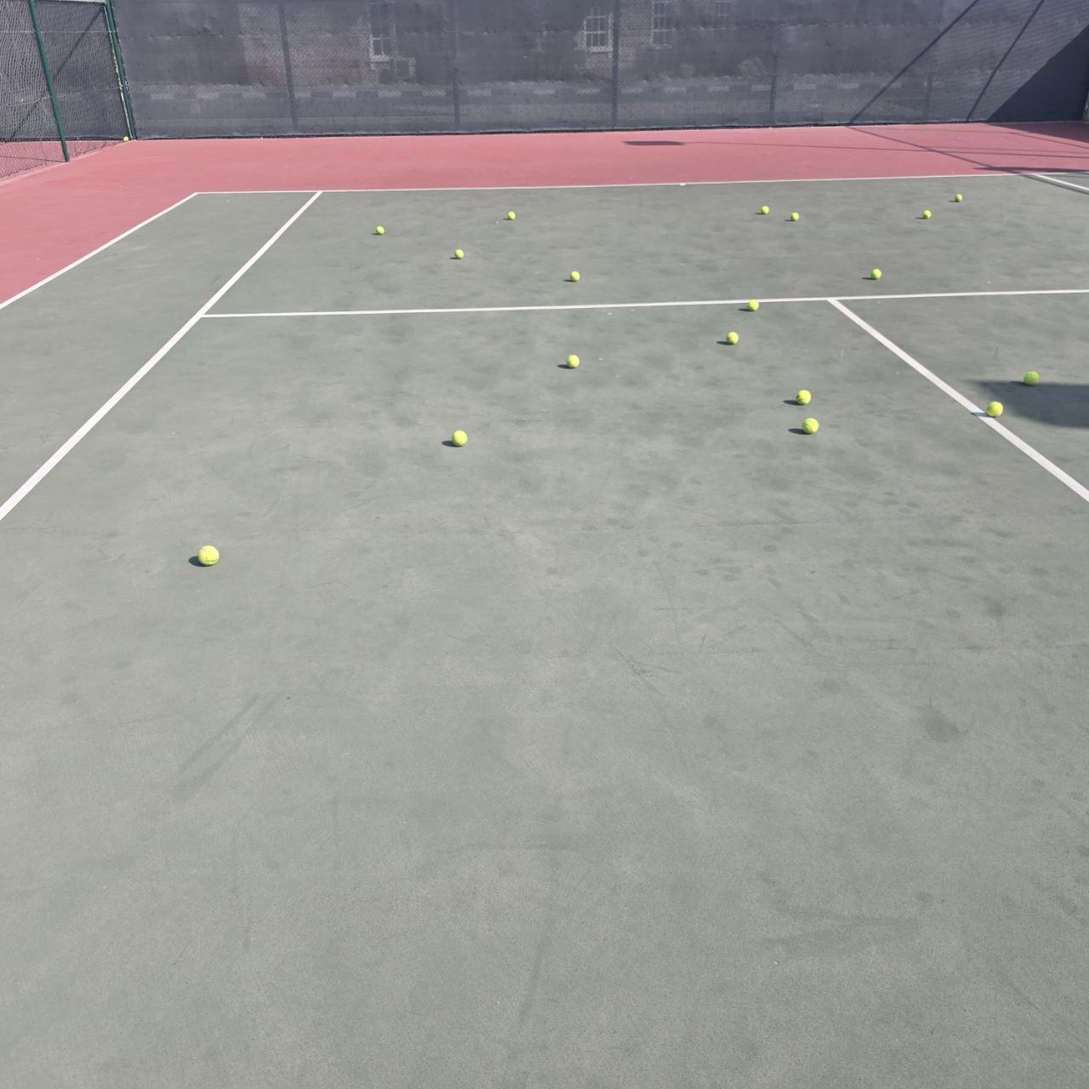tennis-ball: (197, 542, 220, 566), (801, 415, 819, 434), (451, 427, 467, 446), (986, 401, 1003, 418), (795, 387, 811, 404), (1023, 370, 1039, 386), (566, 351, 579, 368), (726, 329, 738, 345), (746, 298, 760, 311), (870, 268, 881, 280), (455, 249, 465, 259), (570, 271, 580, 281), (761, 205, 770, 215), (376, 226, 385, 235), (923, 210, 932, 219), (508, 211, 516, 220), (791, 213, 800, 221), (955, 193, 963, 202), (124, 136, 129, 141)
